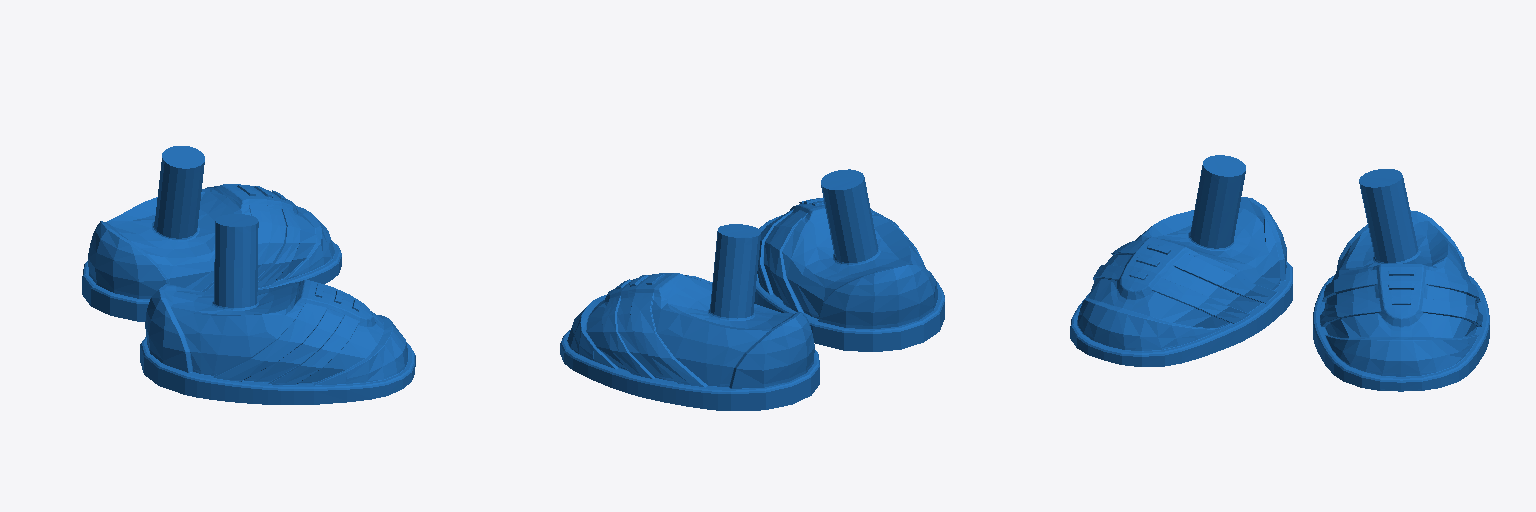
3 views of the same model, side by side, from view 1: azimuth 30°, elevation 25°; view 2: azimuth 150°, elevation 25°; view 3: azimuth 270°, elevation 25° (orthographic).
Visible parts, largest first — view 1: Object.1, Object.2; view 2: Object.2, Object.1; view 3: Object.1, Object.2.
Boxes of the visible parts, x1,y1,x2,y2 form: Object.1: [140, 214, 415, 404]; Object.2: [82, 146, 341, 321]; Object.2: [560, 224, 819, 410]; Object.1: [754, 169, 944, 351]; Object.1: [1070, 155, 1292, 366]; Object.2: [1313, 169, 1489, 391].
Bounding box in the file's own units: 50.32 × 24.92 × 67.83.
Materials: 2 (1 with a texture image).